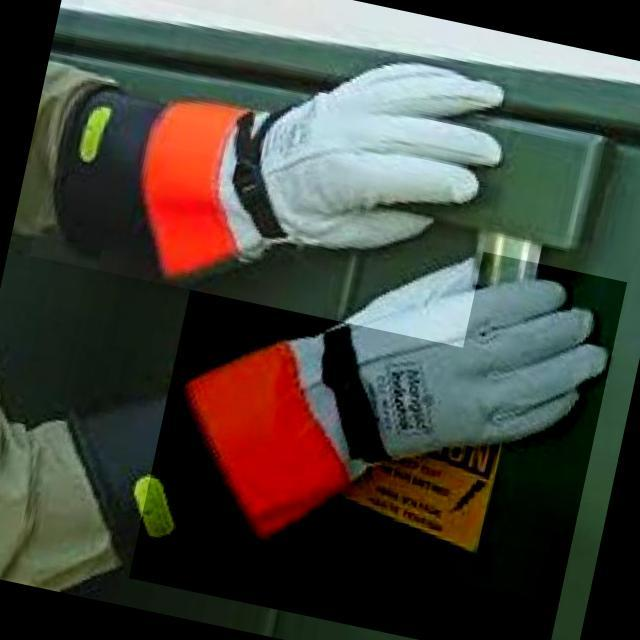Gloves: (128, 193, 626, 640), (29, 0, 520, 347)
